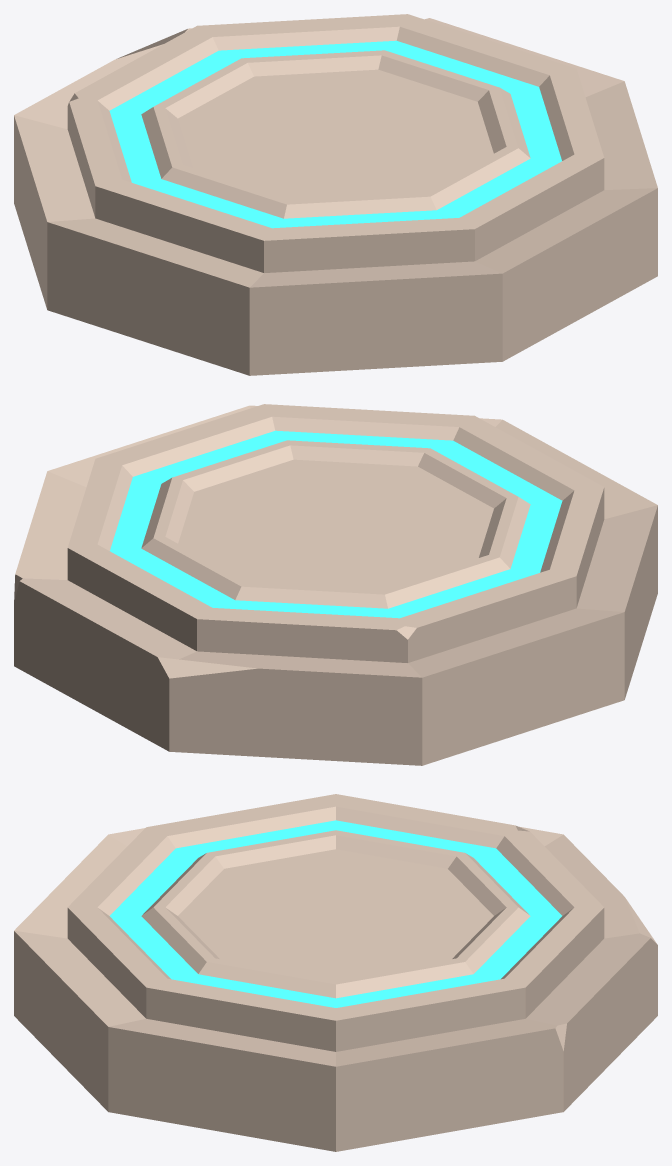
The model's file is silver_join_area.gltf.
3 views of the same model, one above another, from view 1: azimuth 30°, elevation 25°; view 2: azimuth 150°, elevation 25°; view 3: azimuth 270°, elevation 25° (orthographic). The views are drawn at different scales.
Parts seen in each view (by area): view 1: Circle.017; view 2: Circle.017; view 3: Circle.017.
Part boxes in pixels (x1,y1,x2,y2): Circle.017: (14, 14, 657, 375); Circle.017: (14, 404, 657, 765); Circle.017: (14, 794, 657, 1151).
Size of what is drawn, in the model's own units: 6.83 by 1.27 by 6.83.
